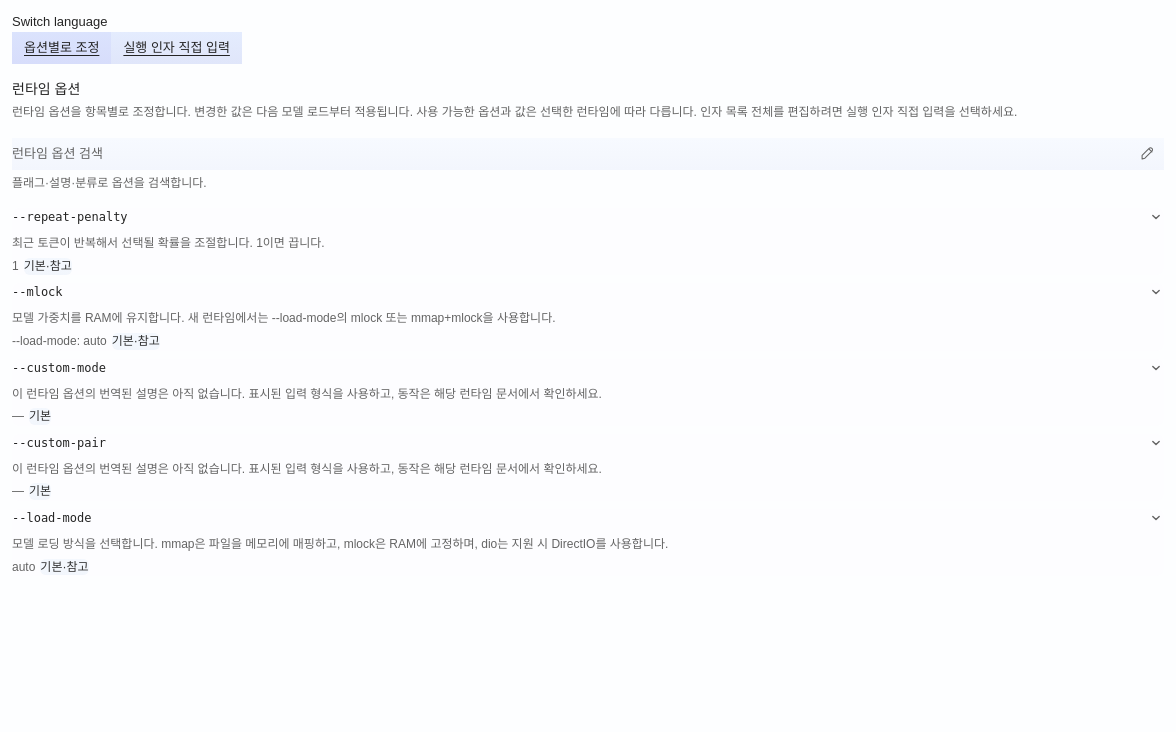
Test: advanced settings explanations › prompts for the value alone and suggests the modes --load-mode documents in prose
What coordinates should you click on to do the following:
click the heading "--load-mode"
I would click on:
 (52, 518)
Its box is [12, 511, 92, 525].
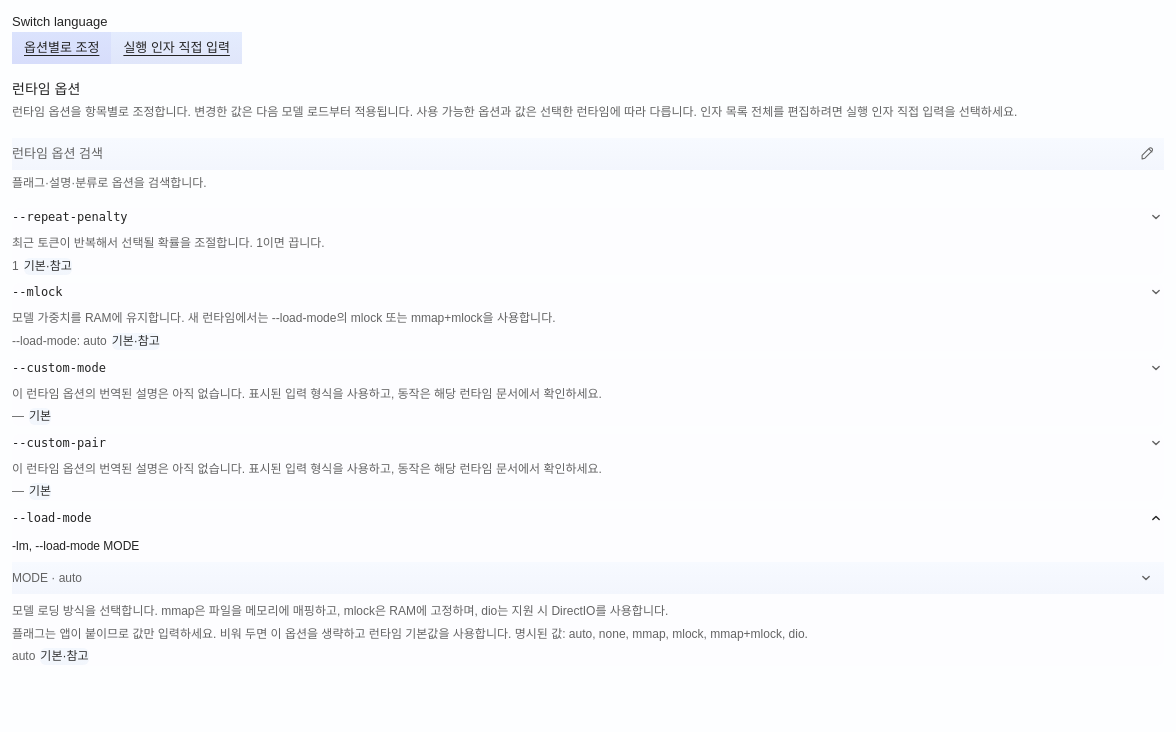
What coordinates should you click on to do the following:
click the dropdown labelled "-lm, --load-mode MODE"
I would click on:
 (588, 578)
Its box is [12, 562, 1164, 594].
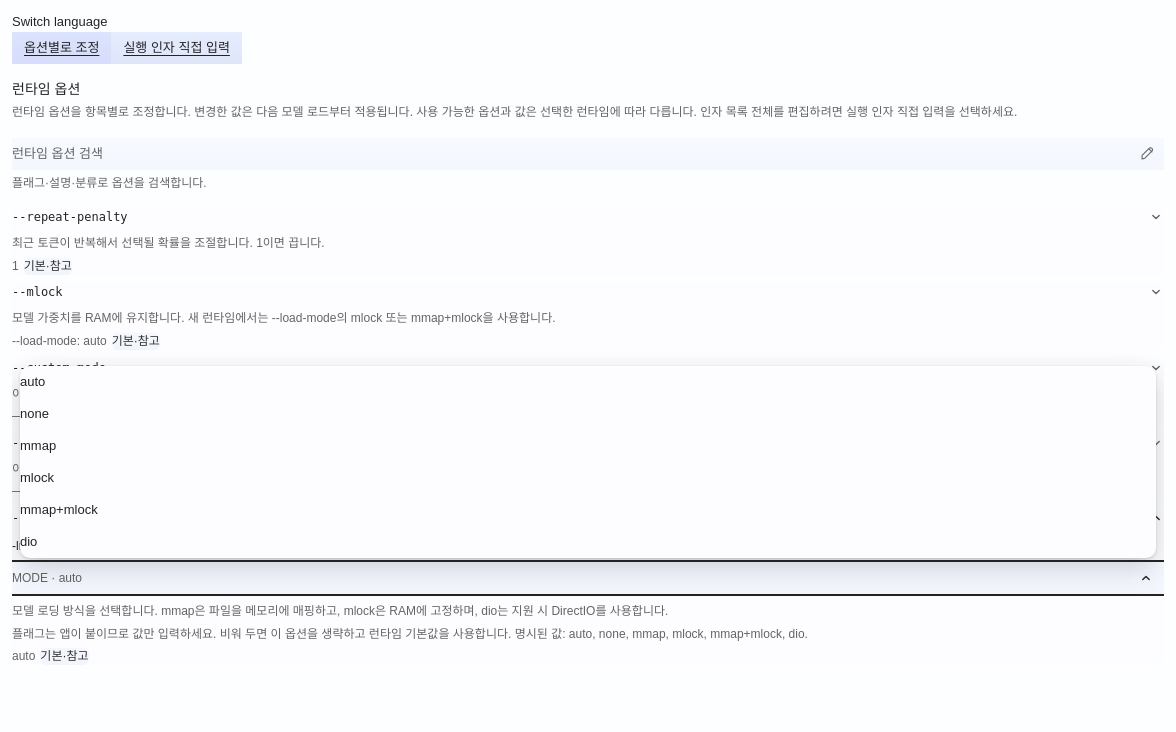
Expected: the options read "auto", "none", "mmap", "mlock", "mmap+mlock", "dio", in this order
What coordinates should you click on to do the following:
click the option "none"
I would click on:
 (34, 414)
Its box is [20, 406, 49, 421].
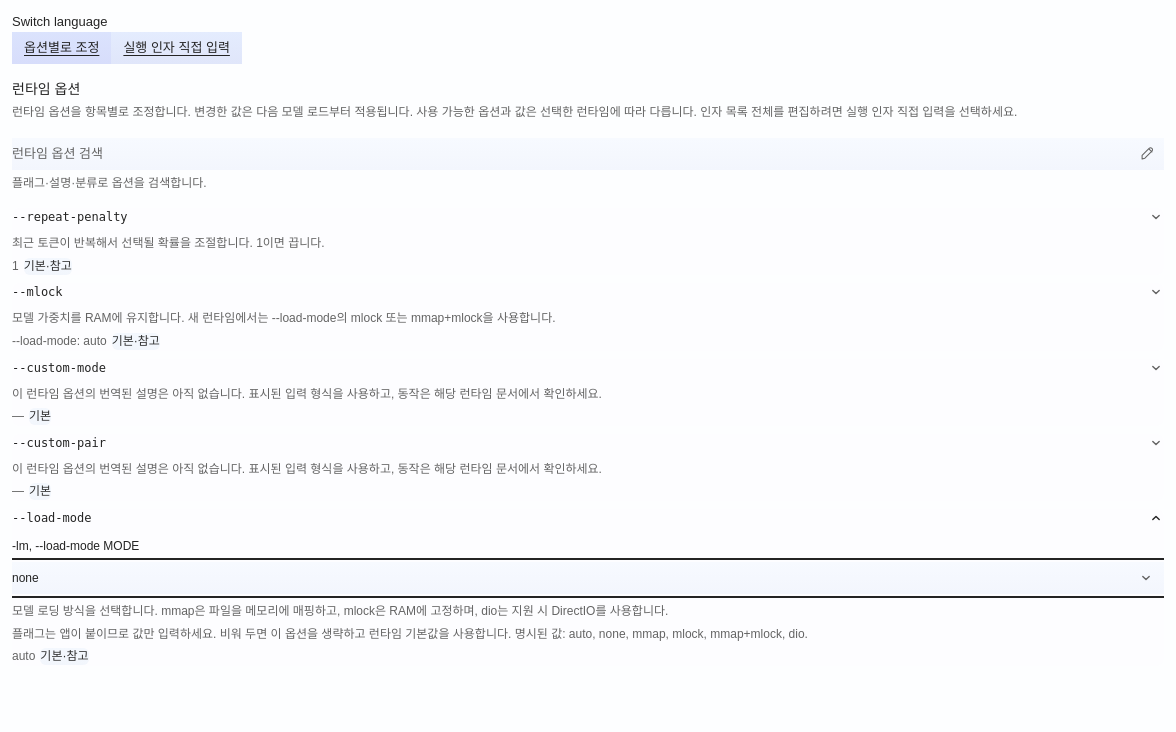
Expected: the element with class "model-settings-option-default" does not show "사용 중", [11, 648, 217, 665]
Expected: the dropdown labelled "-lm, --load-mode MODE" holds "none", [12, 562, 1164, 594]
